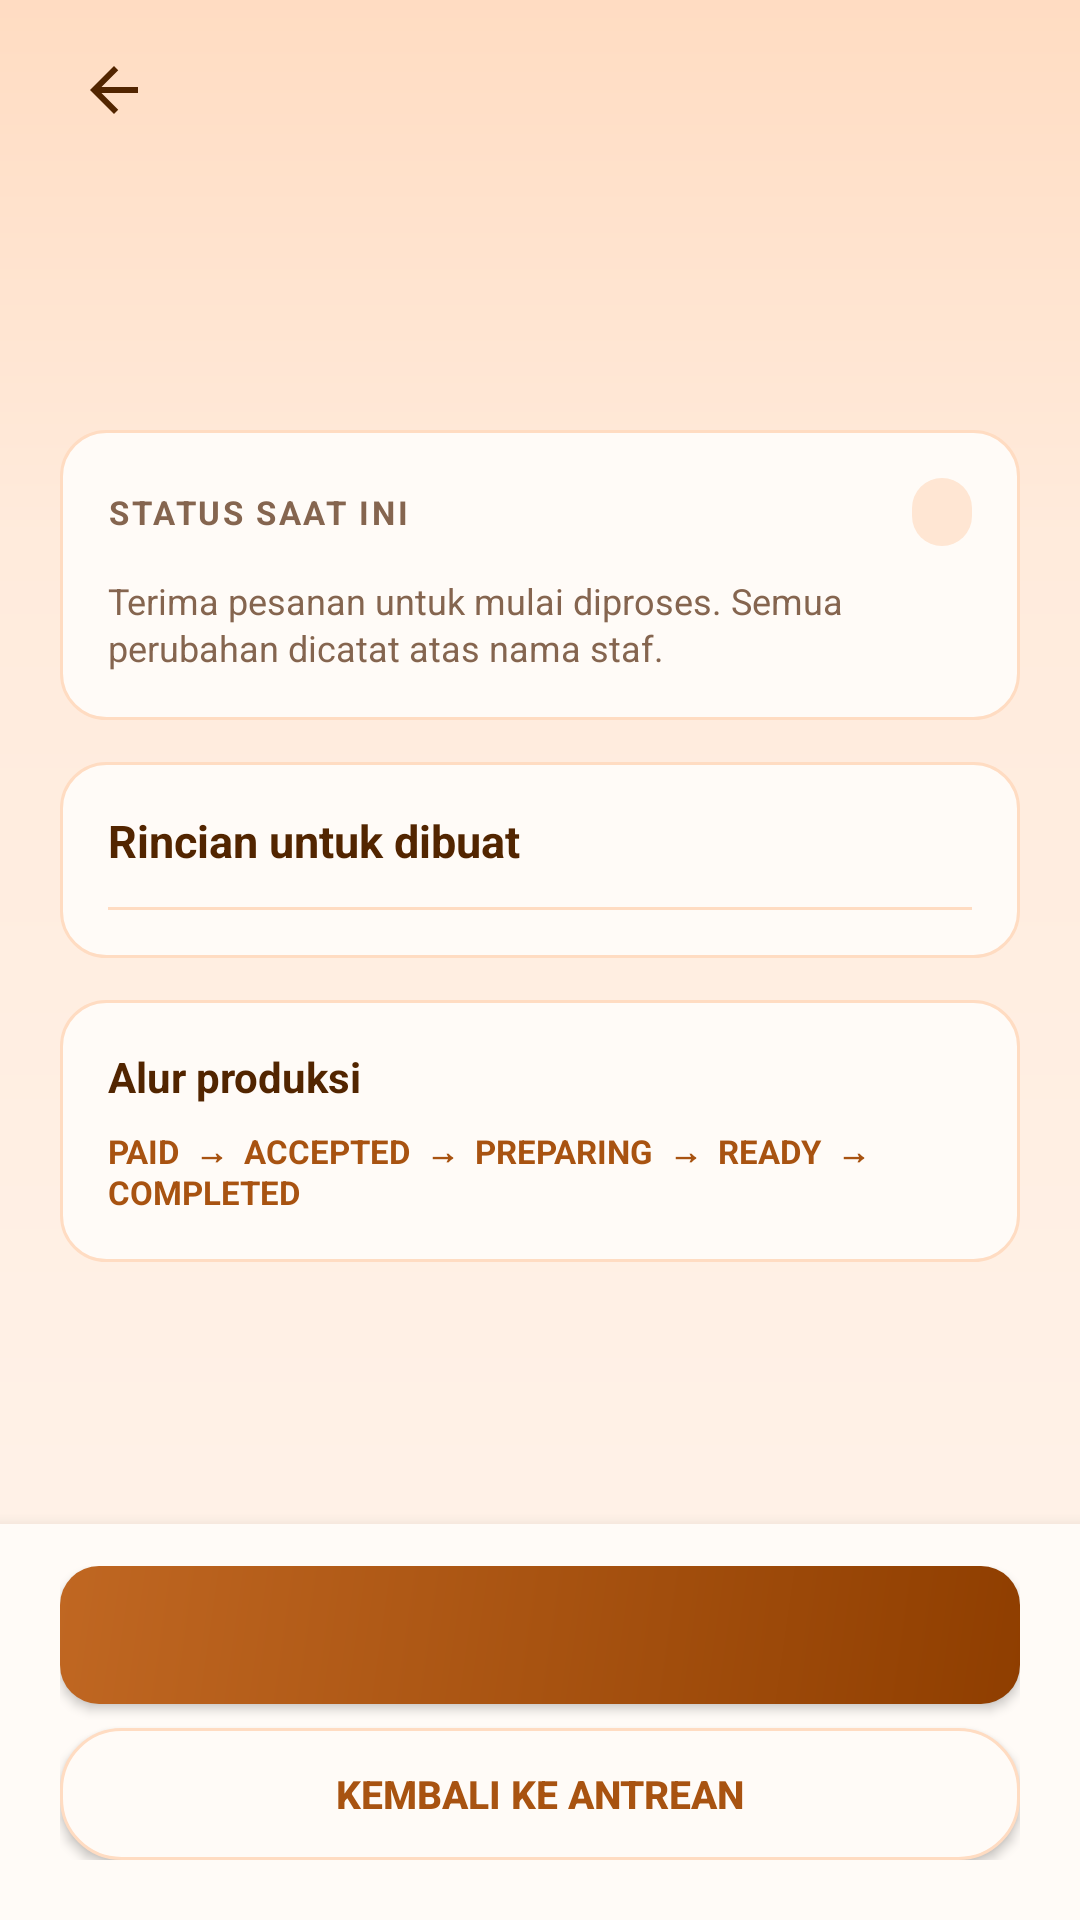

Icons on this 1080px x 1920px Android screen, each with the point to tap as point (x, y):
Kembali: point (114, 90)
